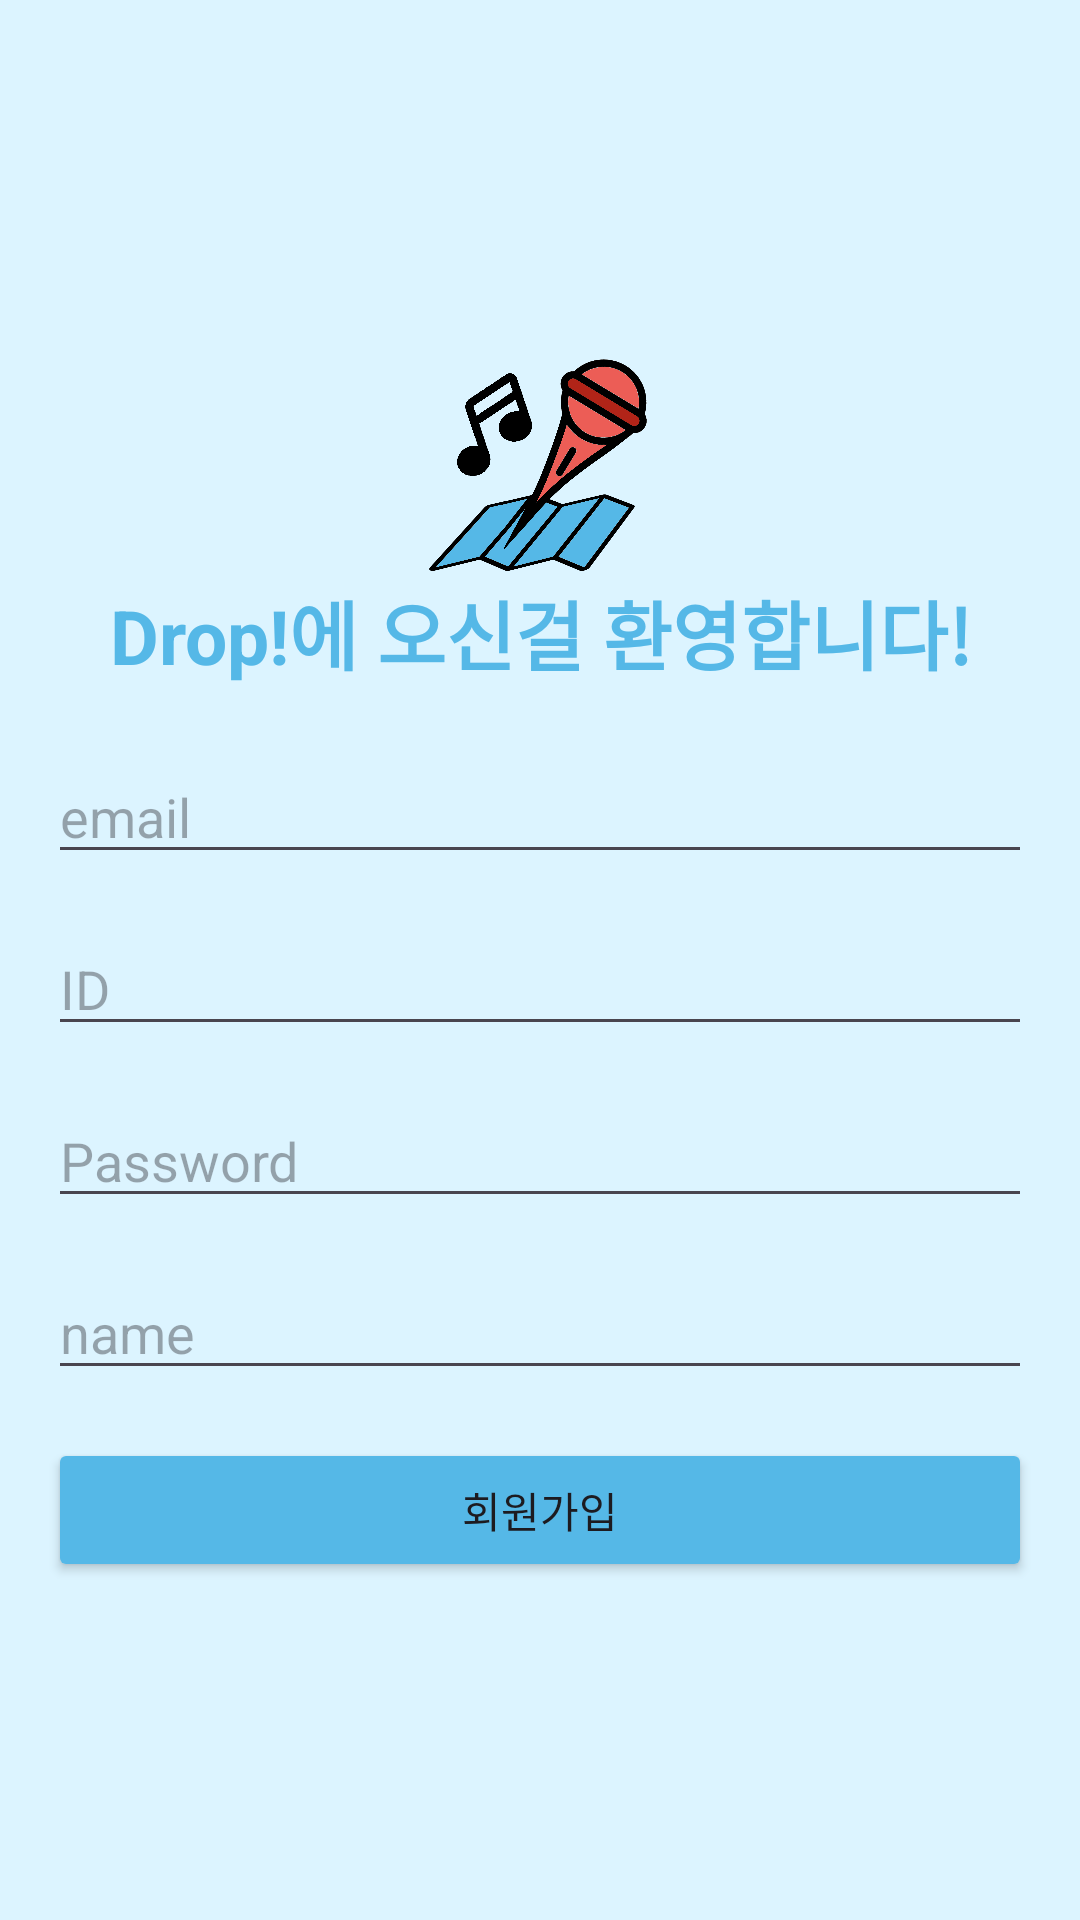

Point at icon controls on the screen. Image size 1080w x 1920h, points as [x,y].
microphone: [538,465]
